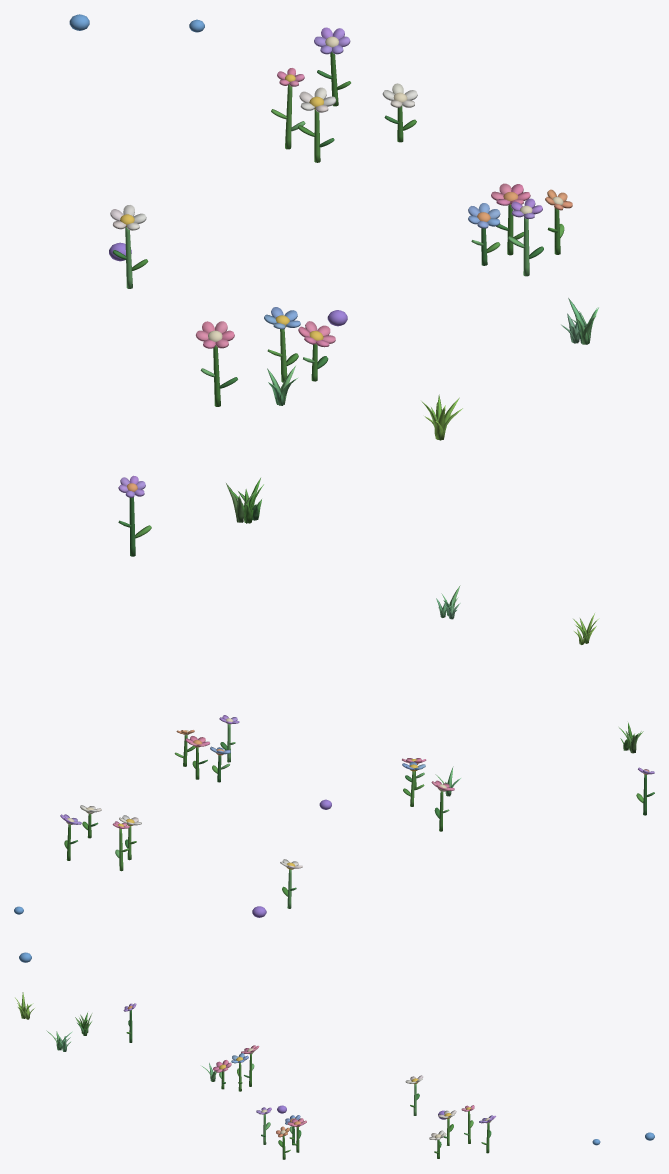
File: W4_FloraRing_12_8.fbx
The picture shows the model from 3 angles, top to bottom: view 1: azimuth 30°, elevation 25°; view 2: azimuth 150°, elevation 25°; view 3: azimuth 270°, elevation 25°; orthographic projection. The views are drawn at different scales.
Parts seen in each view (by area): view 1: W4_FloraRing_12_8; view 2: W4_FloraRing_12_8; view 3: W4_FloraRing_12_8.
Part boxes in pixels (x1,y1,x2,y2): W4_FloraRing_12_8: [69, 14, 598, 556]; W4_FloraRing_12_8: [14, 585, 654, 962]; W4_FloraRing_12_8: [15, 992, 654, 1159].
Size of the model in its own units: 1.89 by 0.6577 by 3.47.
